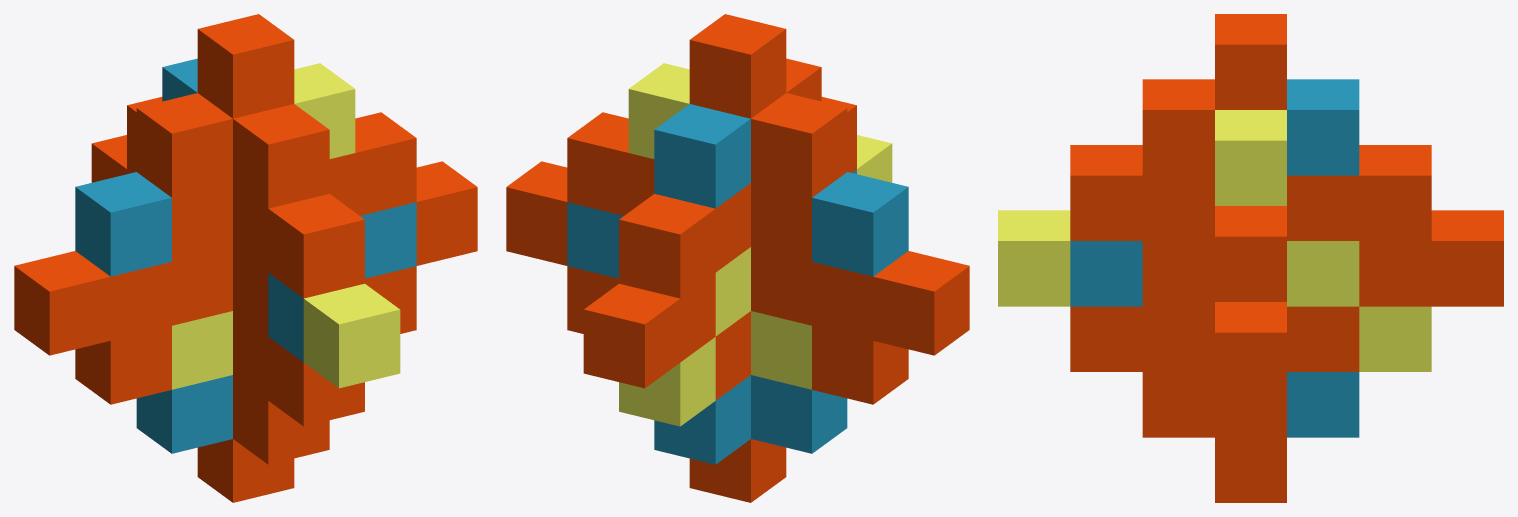
The picture shows the model from 3 angles, left to right: view 1: azimuth 30°, elevation 25°; view 2: azimuth 150°, elevation 25°; view 3: azimuth 270°, elevation 25°; orthographic projection. The views are drawn at different scales.
Parts seen in each view (by area): view 1: Cube_0, Cube_3_16, Cube_3_25, Cube_2_5, Cube_1_3, Cube_3_21, Cube_3_24, Cube_3_22, Cube_3_17, Cube_3, Cube_3_4, Cube_1 (+17 smaller); view 2: Cube_6, Cube_3_16, Cube_3_25, Cube_4_5, Cube_5_3, Cube_3_21, Cube_3_24, Cube_3_22, Cube_3_17, Cube_3, Cube_3_4, Cube_5 (+17 smaller); view 3: Cube_0, Cube_6, Cube_2_5, Cube_4_5, Cube_1_3, Cube_5_3, Cube_3, Cube_3_4, Cube_3_9, Cube_3_16, Cube_2, Cube_4 (+13 smaller).
Boxes of the visible parts, x1,y1,x2,y2 form: Cube_0: (303,283,400,388); Cube_3_16: (197,14,294,118); Cube_3_25: (14,251,110,355); Cube_2_5: (233,104,329,208); Cube_1_3: (268,194,364,298); Cube_3_21: (136,93,232,197); Cube_3_24: (75,172,171,276); Cube_3_22: (75,326,171,404); Cube_3_17: (136,375,232,453); Cube_3: (416,161,477,265); Cube_3_4: (355,112,416,215); Cube_1: (268,337,364,426); Cube_6: (583,283,680,388); Cube_3_16: (689,14,786,118); Cube_3_25: (873,251,969,355); Cube_4_5: (654,104,750,208); Cube_5_3: (619,194,715,298); Cube_3_21: (751,93,847,197); Cube_3_24: (812,172,908,276); Cube_3_22: (812,326,908,404); Cube_3_17: (751,375,847,453); Cube_3: (506,161,567,265); Cube_3_4: (567,112,628,215); Cube_5: (619,337,715,426); Cube_0: (998,210,1070,306); Cube_6: (1431,210,1503,306); Cube_2_5: (1142,79,1214,175); Cube_4_5: (1287,79,1359,175); Cube_1_3: (1070,145,1142,240); Cube_5_3: (1359,145,1431,240); Cube_3: (1215,302,1286,397); Cube_3_4: (1215,206,1286,301); Cube_3_9: (1215,110,1286,205); Cube_3_16: (1215,14,1286,109); Cube_2: (1142,372,1214,437); Cube_4: (1287,372,1359,437).
Bounding box in the file's own units: 1037 × 1037 × 1037.
